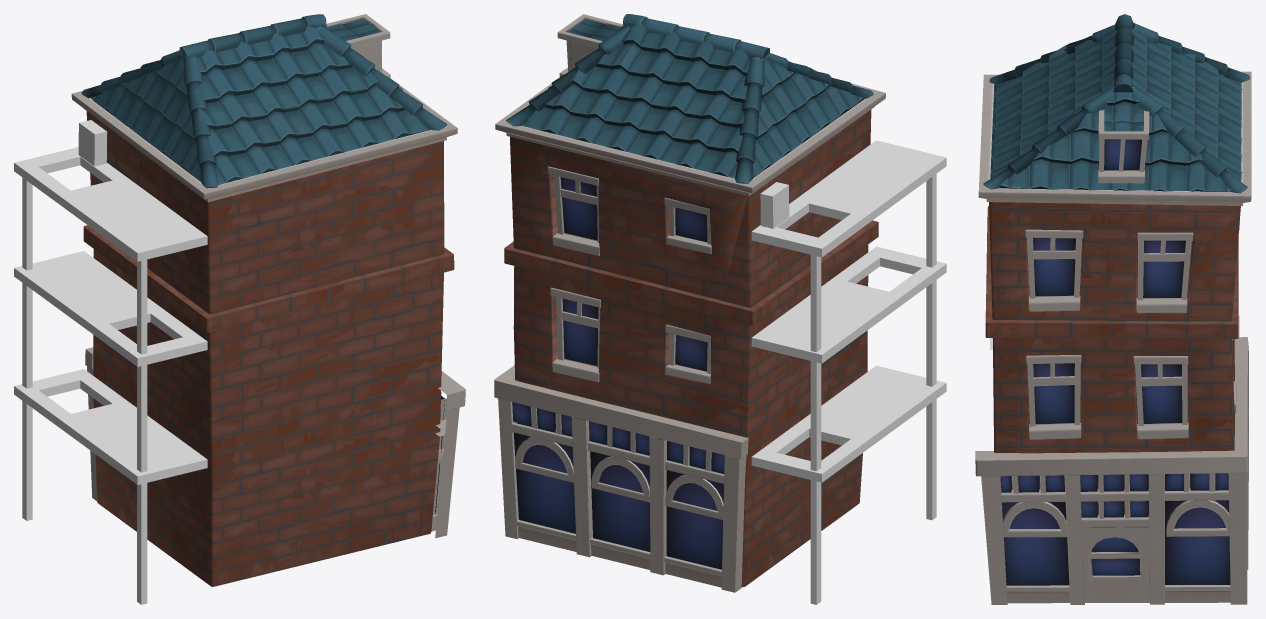
Rendered from Building02.fbx.
3 renders of one model, left to right at view 1: azimuth 30°, elevation 25°; view 2: azimuth 150°, elevation 25°; view 3: azimuth 270°, elevation 25°, orthographic.
Visible parts, largest first — view 1: Building02, Scaffold, Breaker; view 2: Building02, Scaffold, Breaker; view 3: Building02.
Part boxes in pixels (x1,y1,x2,y2): Building02: [71, 14, 465, 586]; Scaffold: [14, 147, 207, 604]; Breaker: [78, 120, 107, 166]; Building02: [494, 14, 885, 592]; Scaffold: [751, 140, 946, 604]; Breaker: [760, 182, 789, 228]; Building02: [975, 14, 1251, 604].
Size of the model in its own units: 766 by 1112 by 564.
